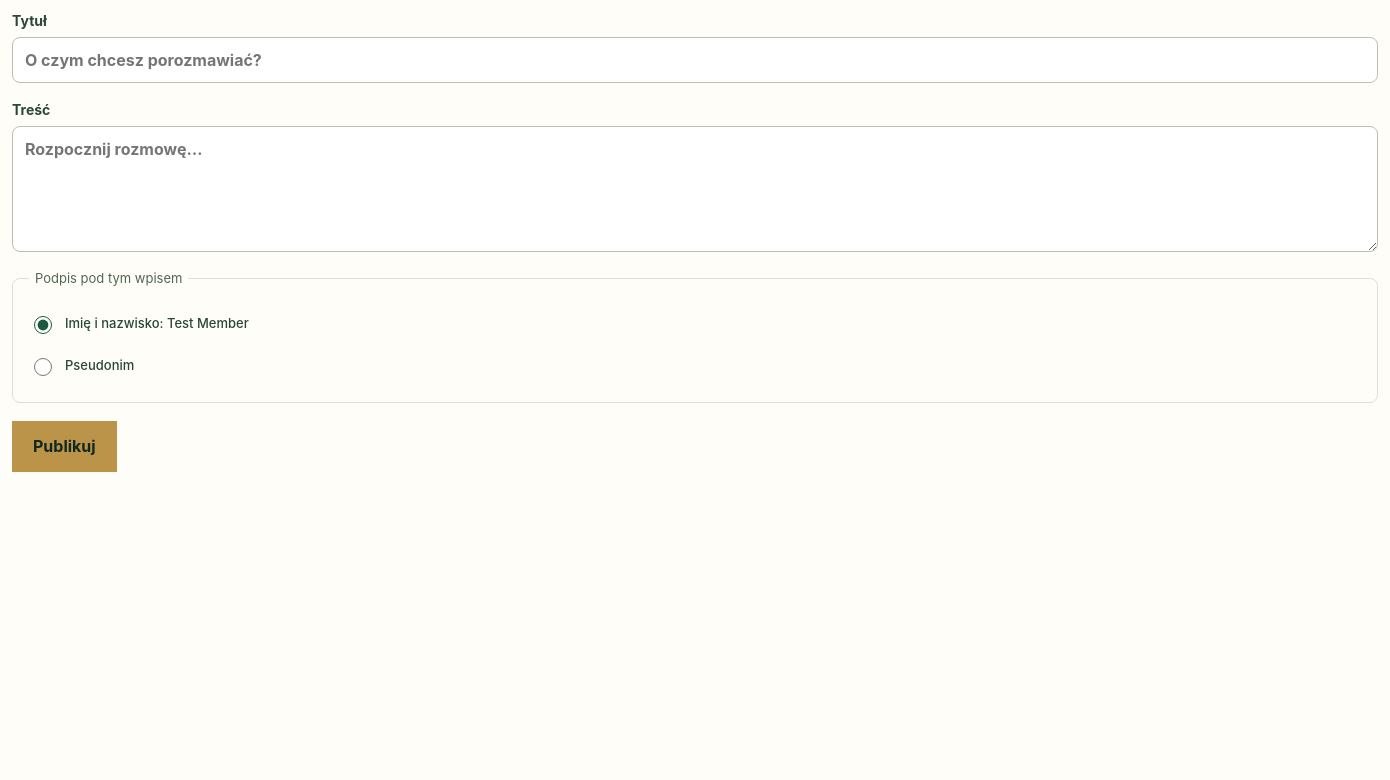
Test: preserves drafts when Firestore publication fails, with pseudonym disclosure
Type "Real topic" into the field labelled "Tytuł" at (695, 60), box x1=12 y1=37 x2=1378 y2=83
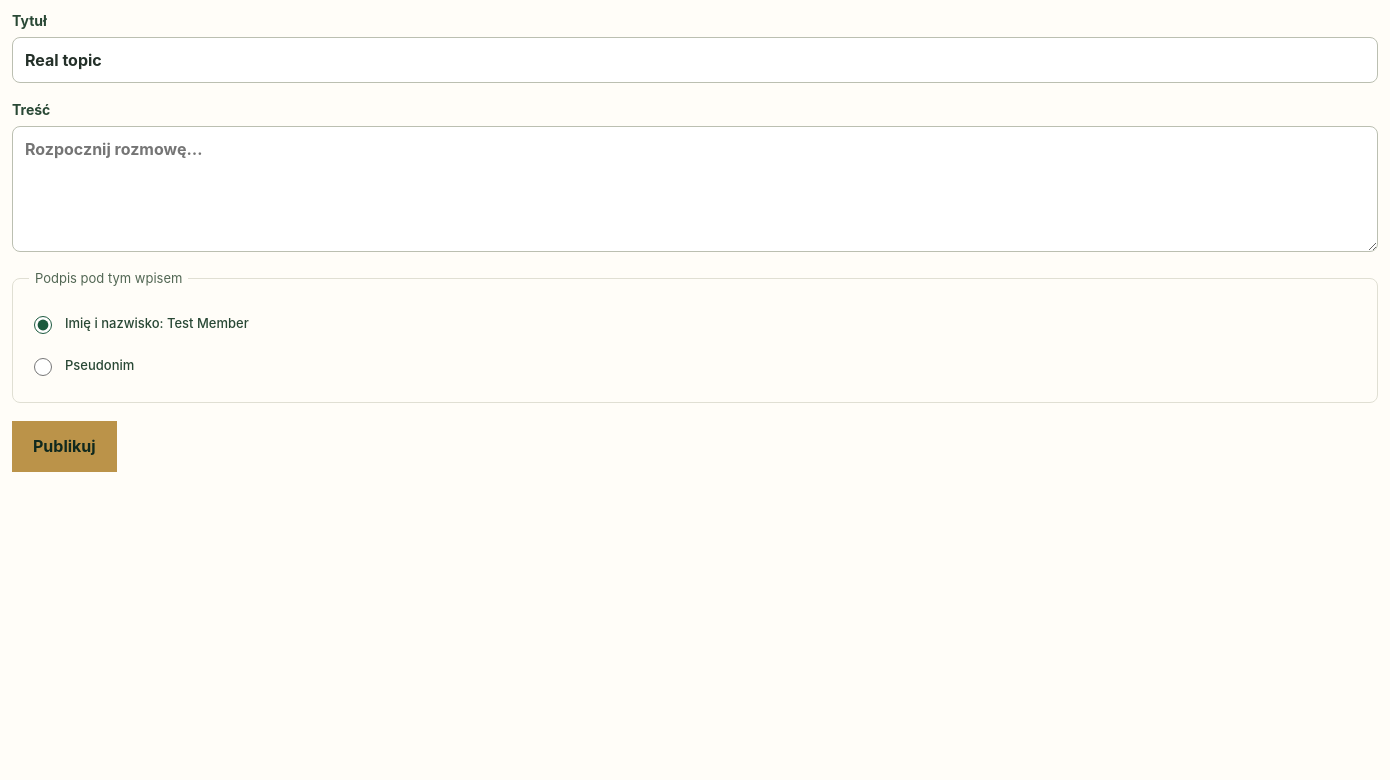
Type "Keep my draft" into the text box labelled "Treść" at (695, 189), box x1=12 y1=126 x2=1378 y2=252
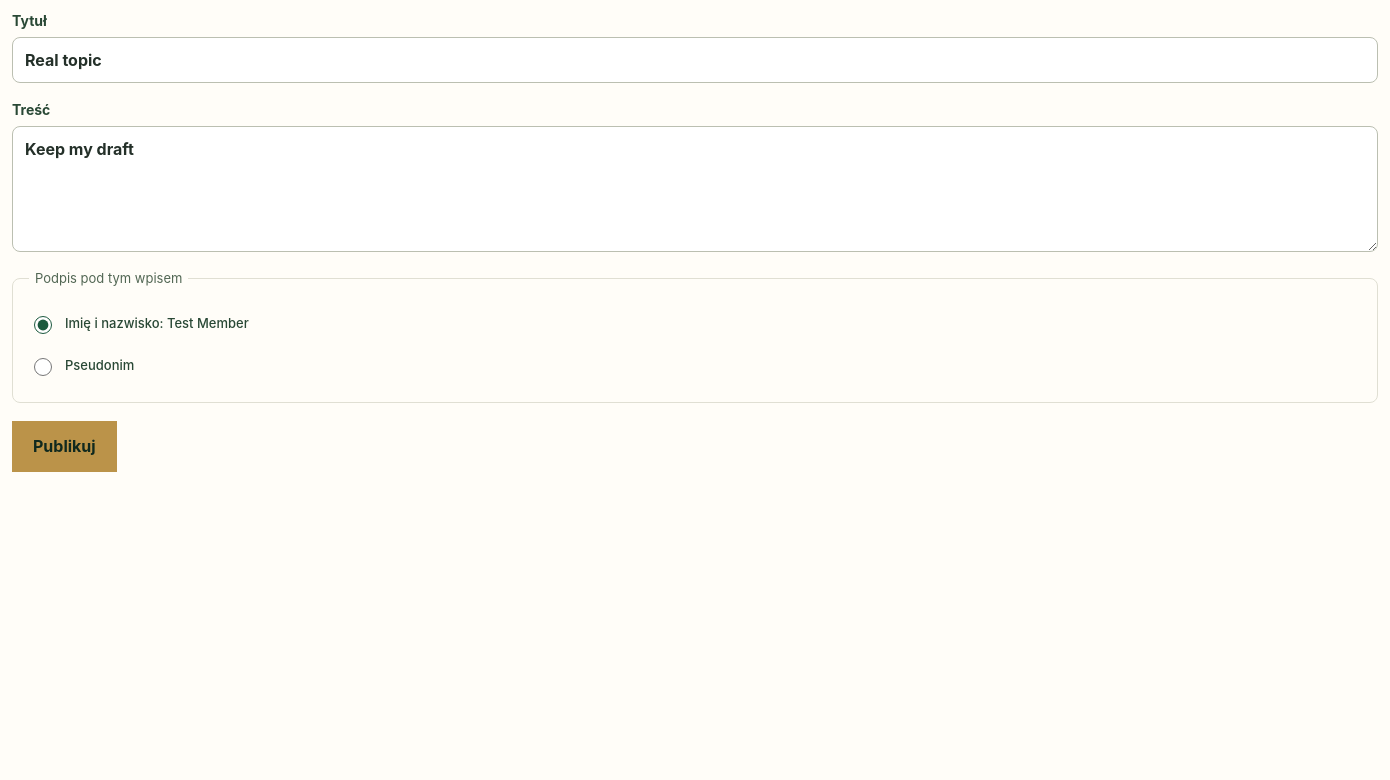
Click the radio button labelled "Pseudonim" at (43, 366), box x1=34 y1=358 x2=52 y2=376
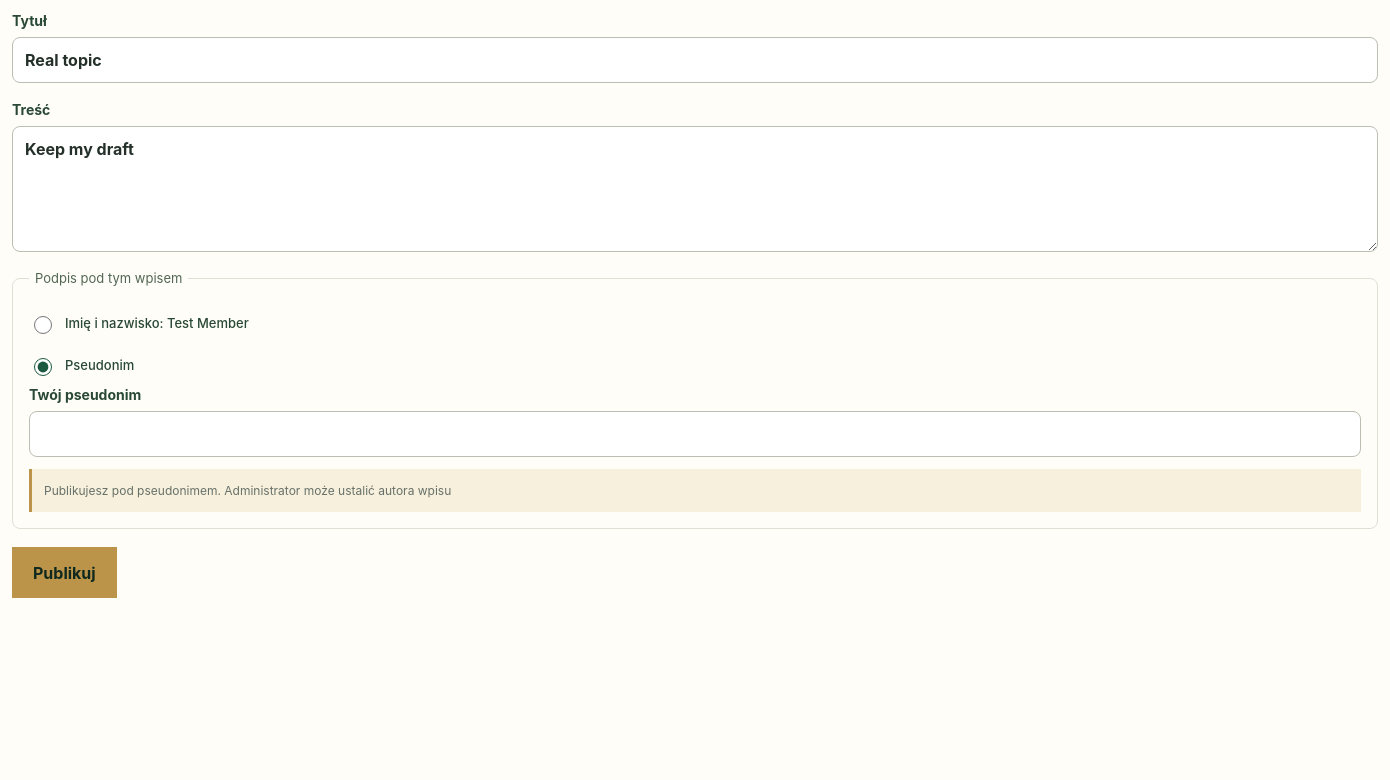
Type "Forest" into the field labelled "Twój pseudonim" at (695, 434), box x1=29 y1=411 x2=1361 y2=457
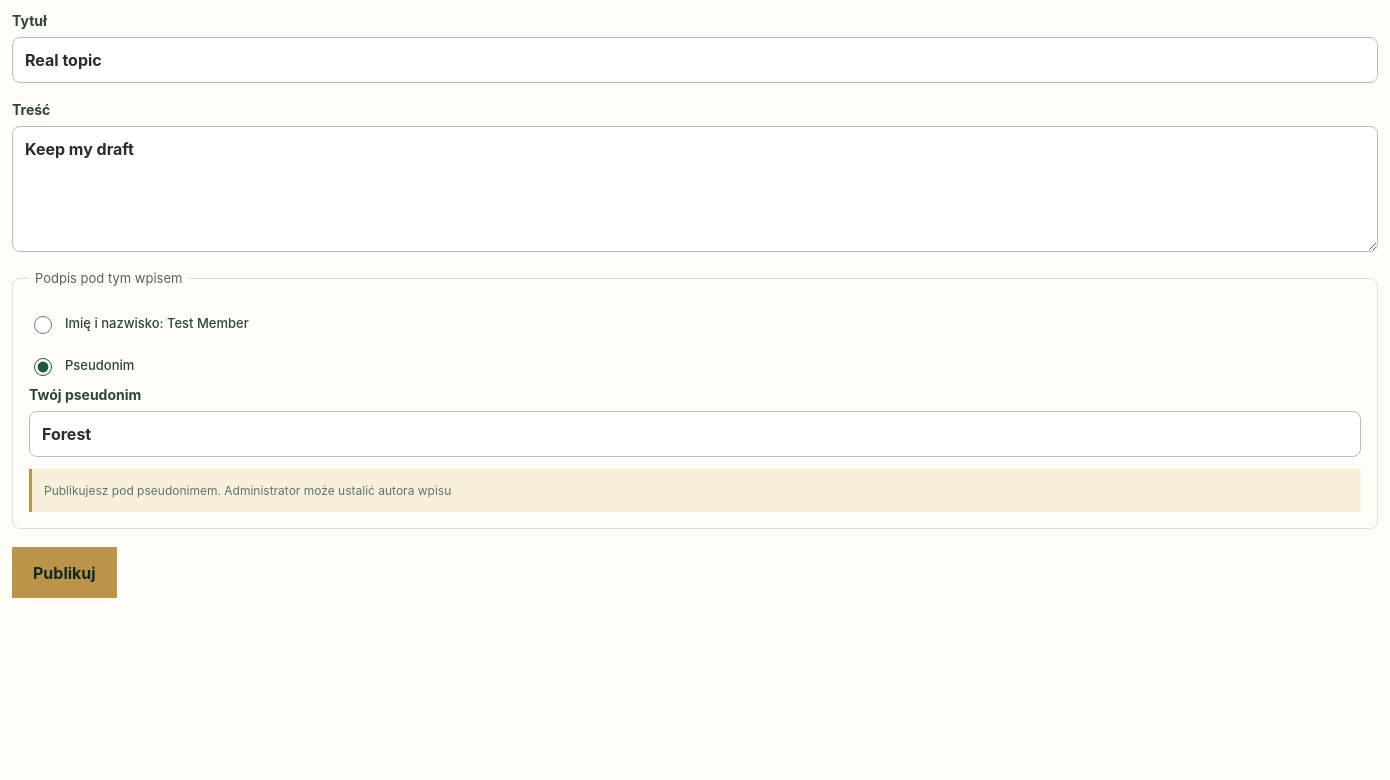
Now the text "Publikujesz pod pseudonimem. Administrator może ustalić autora wpisu" is shown, box x1=29 y1=469 x2=1361 y2=512
Click the button "Publikuj" at (64, 573), box x1=12 y1=547 x2=117 y2=598
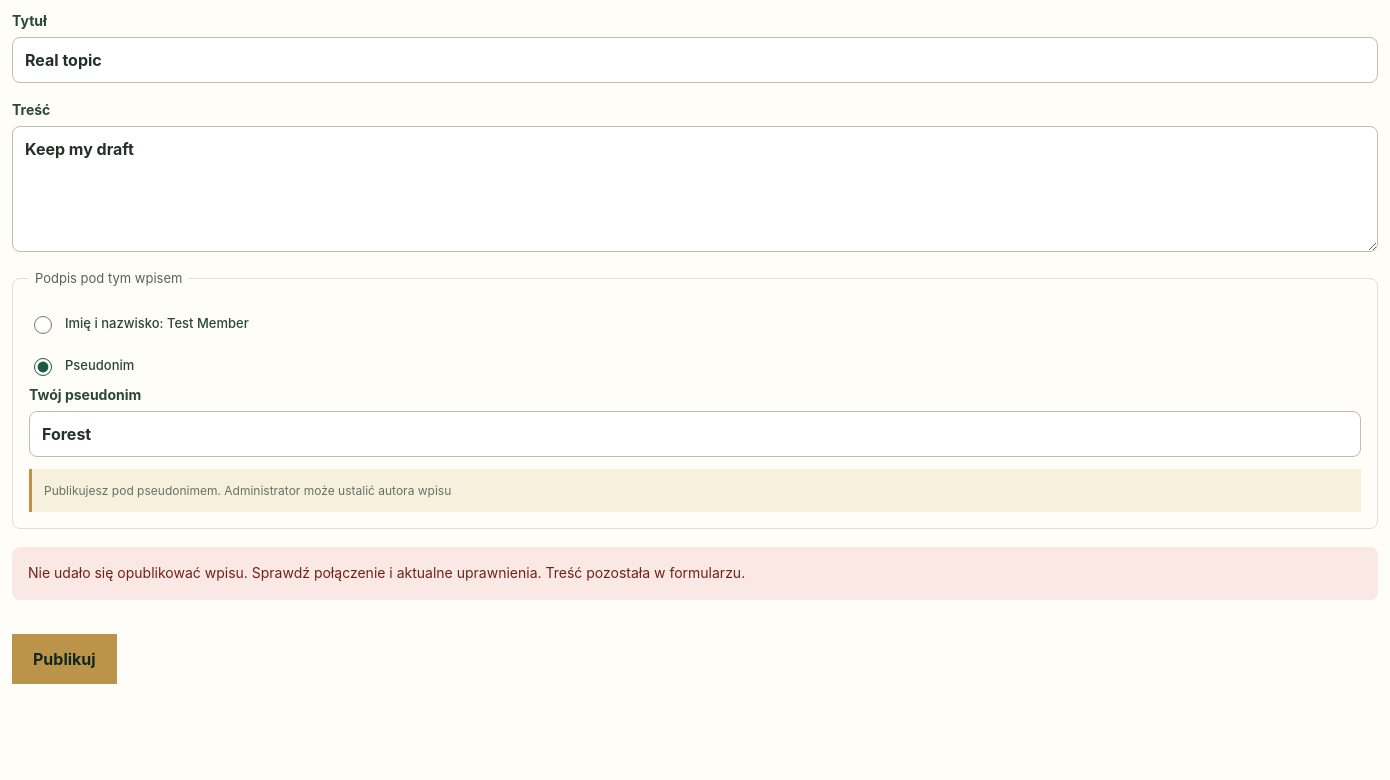
Now the message shows "Treść pozostała w formularzu", box x1=28 y1=564 x2=745 y2=581
